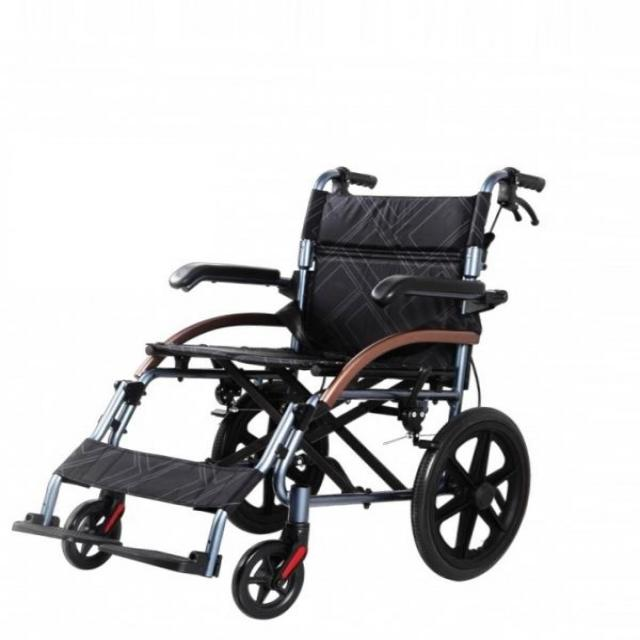wheelchair: (5, 142, 582, 630)
